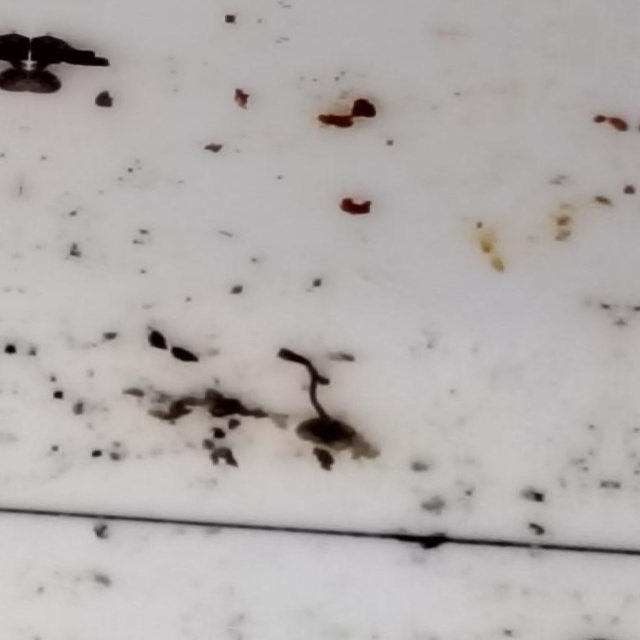varroa: (290, 413, 356, 448), (27, 67, 65, 96)
